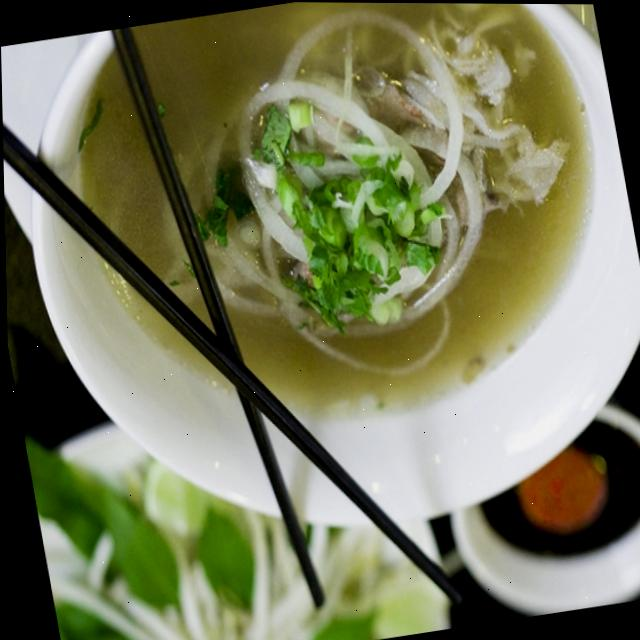面条主食: (0, 0, 640, 598)
